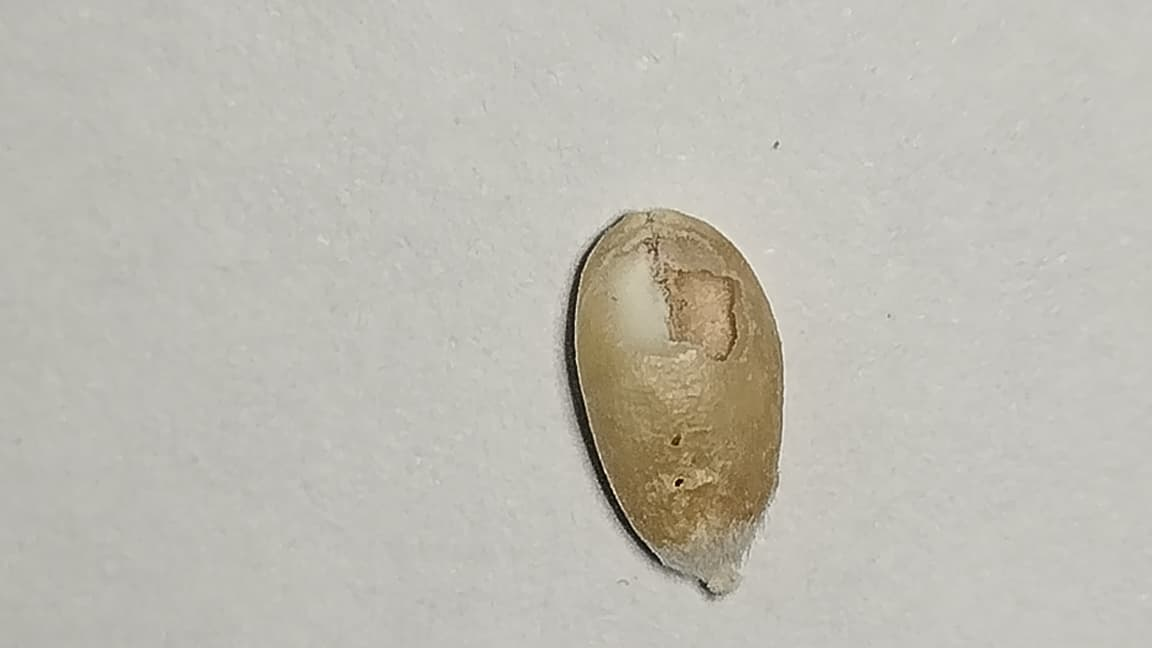damage: (574, 209, 783, 594)
insectdamage: (613, 233, 743, 362)
